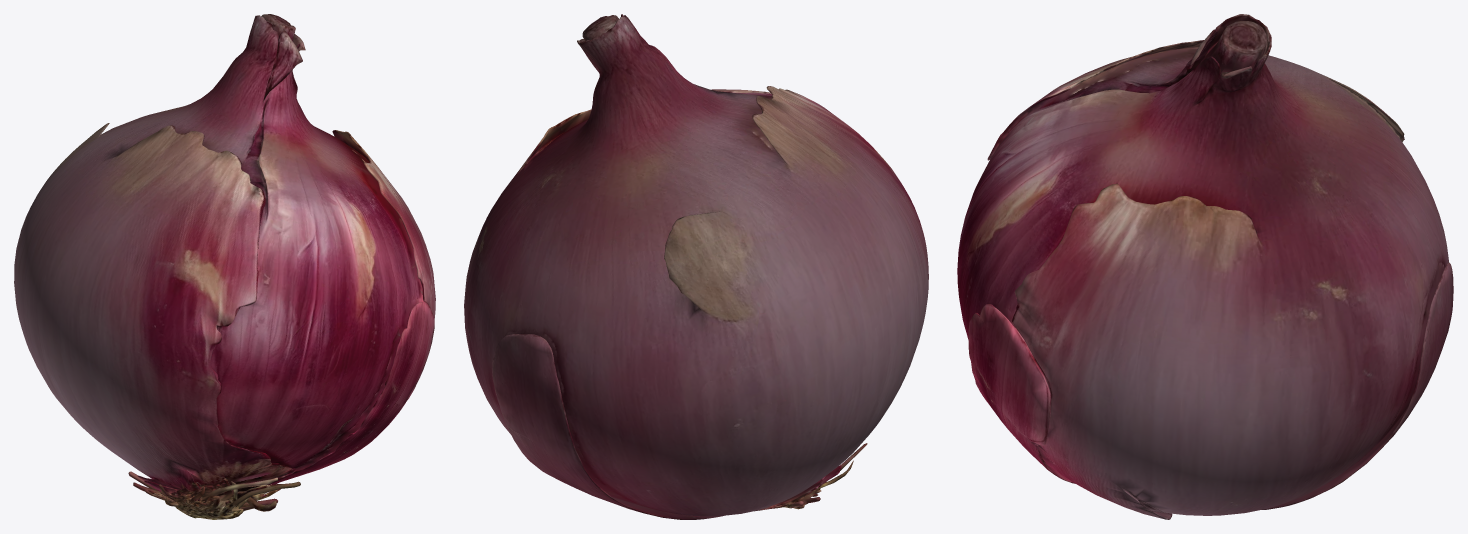
The model's file is red_grapes.glb.
3 views of the same model, side by side, from view 1: azimuth 30°, elevation 25°; view 2: azimuth 150°, elevation 25°; view 3: azimuth 270°, elevation 25° (orthographic). The views are drawn at different scales.
Parts seen in each view (by area): view 1: node_0; view 2: node_0; view 3: node_0.
Part boxes in pixels (x1=…): node_0: x1=14, y1=14, x2=435, y2=519; node_0: x1=464, y1=14, x2=928, y2=519; node_0: x1=957, y1=14, x2=1453, y2=519.
Size of the model in its own units: 0.9649 by 1.13 by 0.9719.
Materials: 1 (1 with a texture image).
